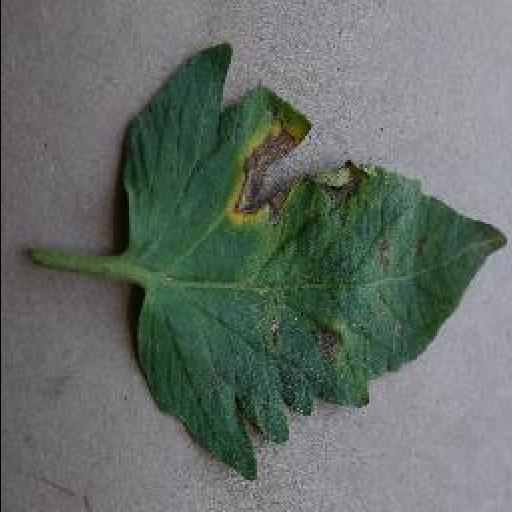disease_tomato: (121, 44, 507, 482)
